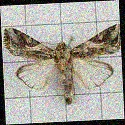Spodoptera litura: (4, 24, 122, 105)
